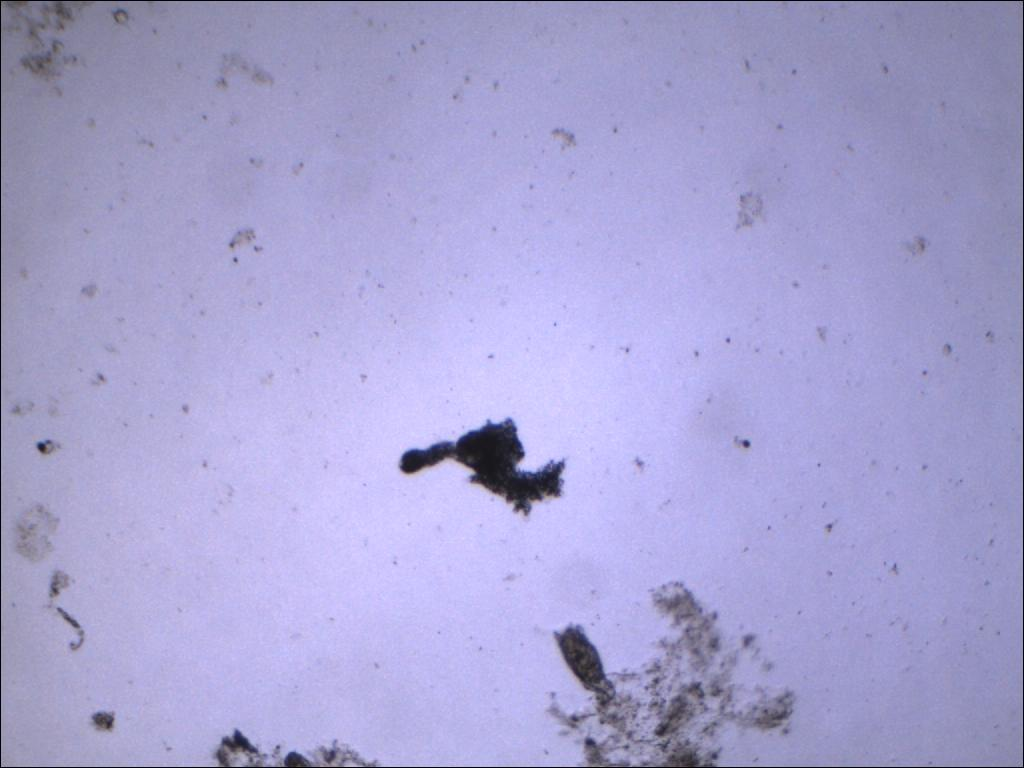amoeba: (391, 409, 572, 524)
